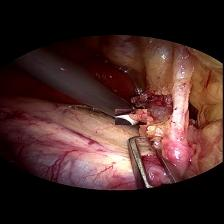Grasper: (127, 132, 176, 190)
Hook: (116, 108, 148, 124)
